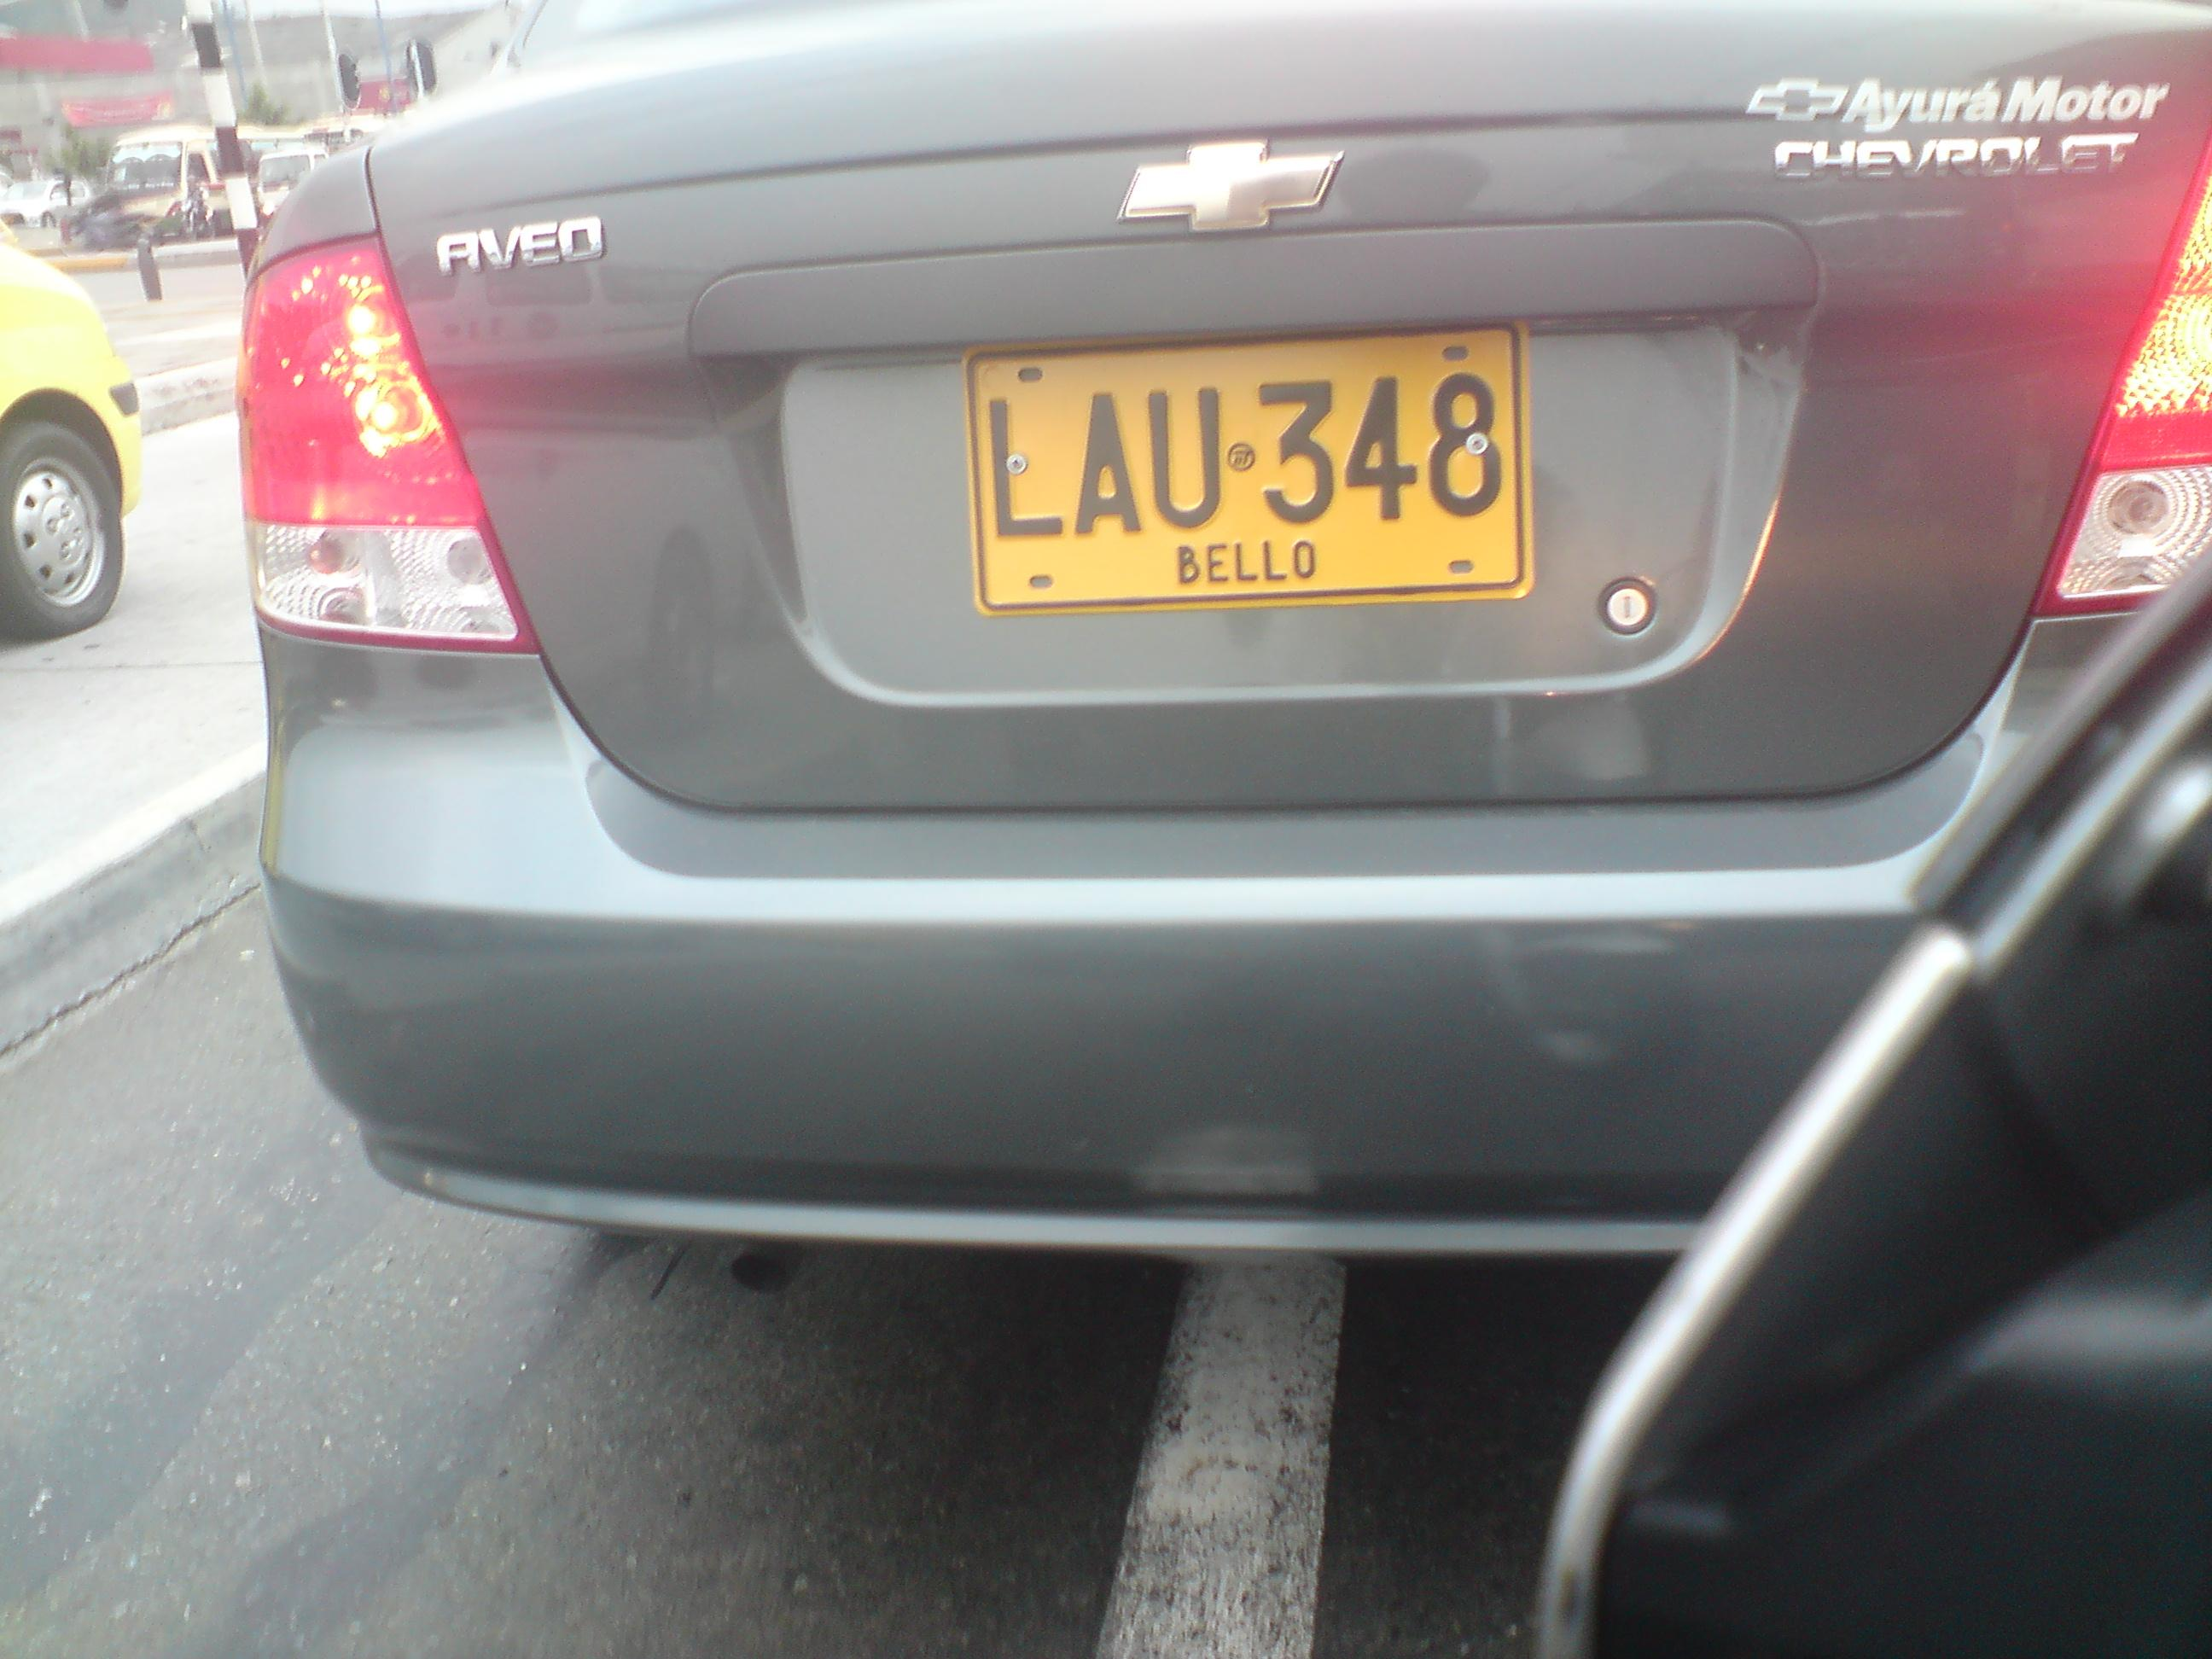placas: (949, 320, 1541, 623)
